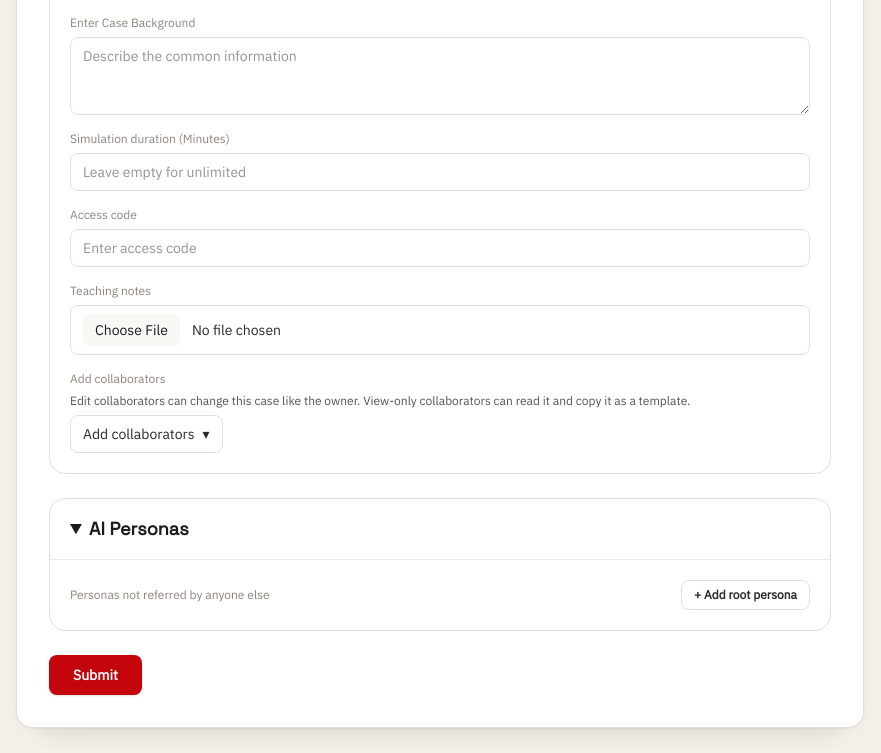
CaseForm › collaborator picker › shows the admin roster from the live Convex subscription in the picker
The width and height of the screenshot is (881, 753).
(page scrolled)
Click the button "Add collaborators ▾": point(146, 434) 70,414 -> 222,452
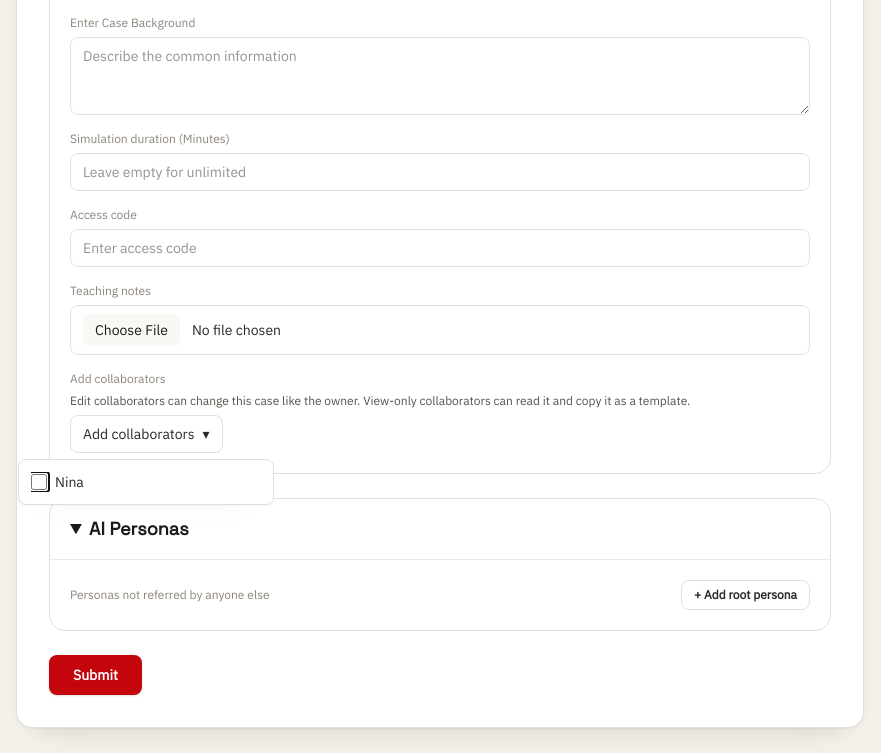
Now the text "Nina" is shown, box 55,472 -> 84,492
